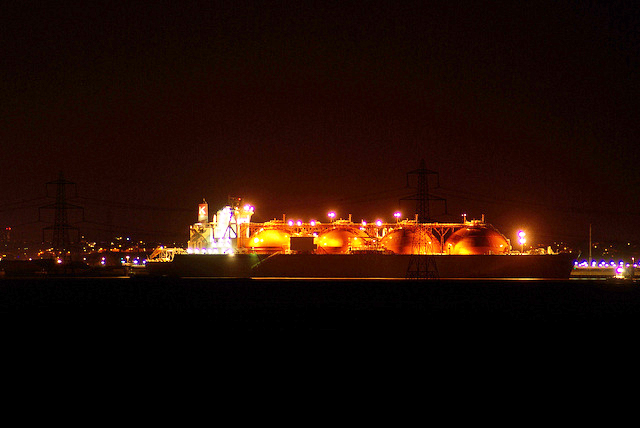LNG_ship: (157, 195, 581, 275)
